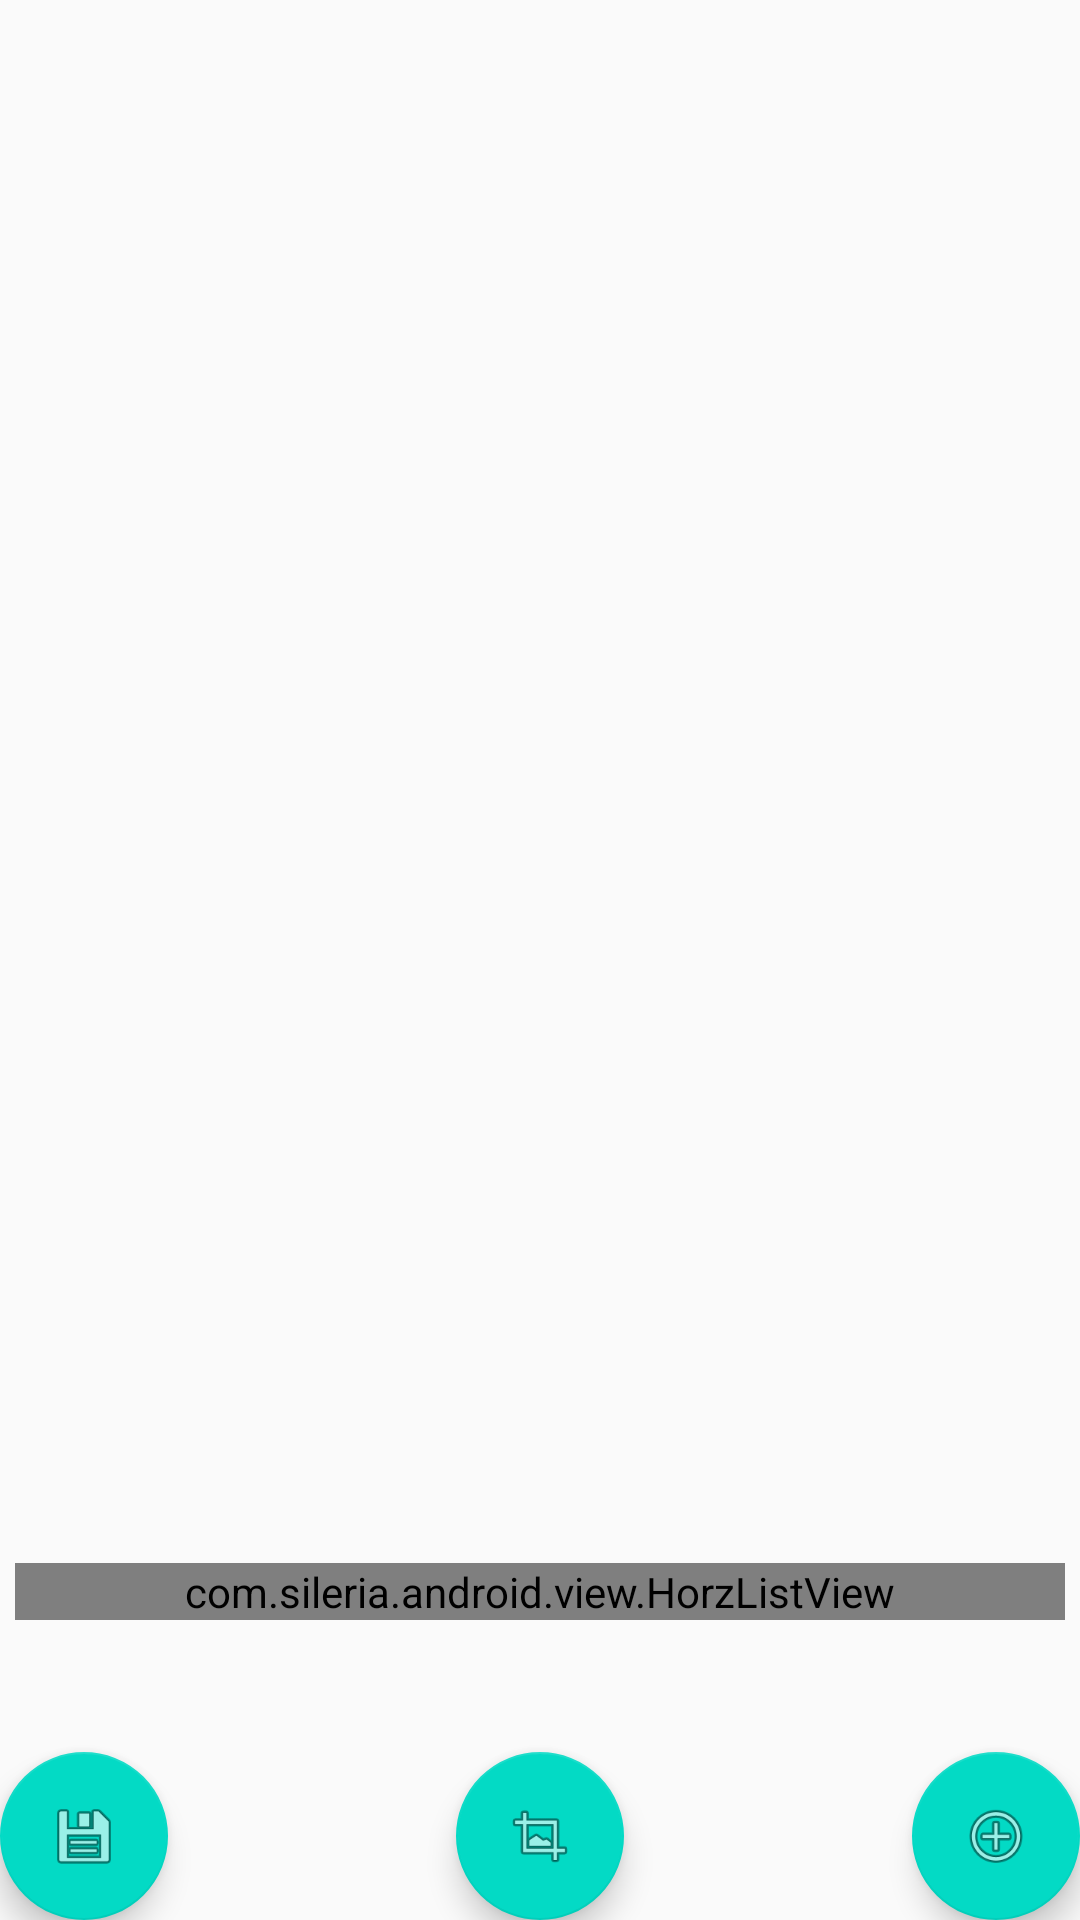

Where to tap for icons on this 1080x1920 app screen, as [x,y]:
add: [996,1836]
crop: [540,1836]
save: [84,1836]
